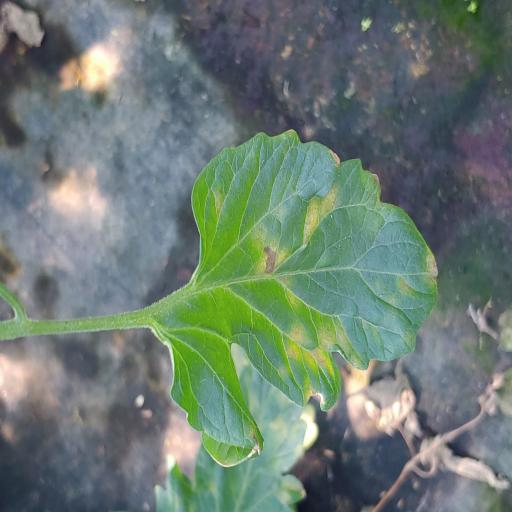Leaf Mold: (169, 130, 440, 474)
